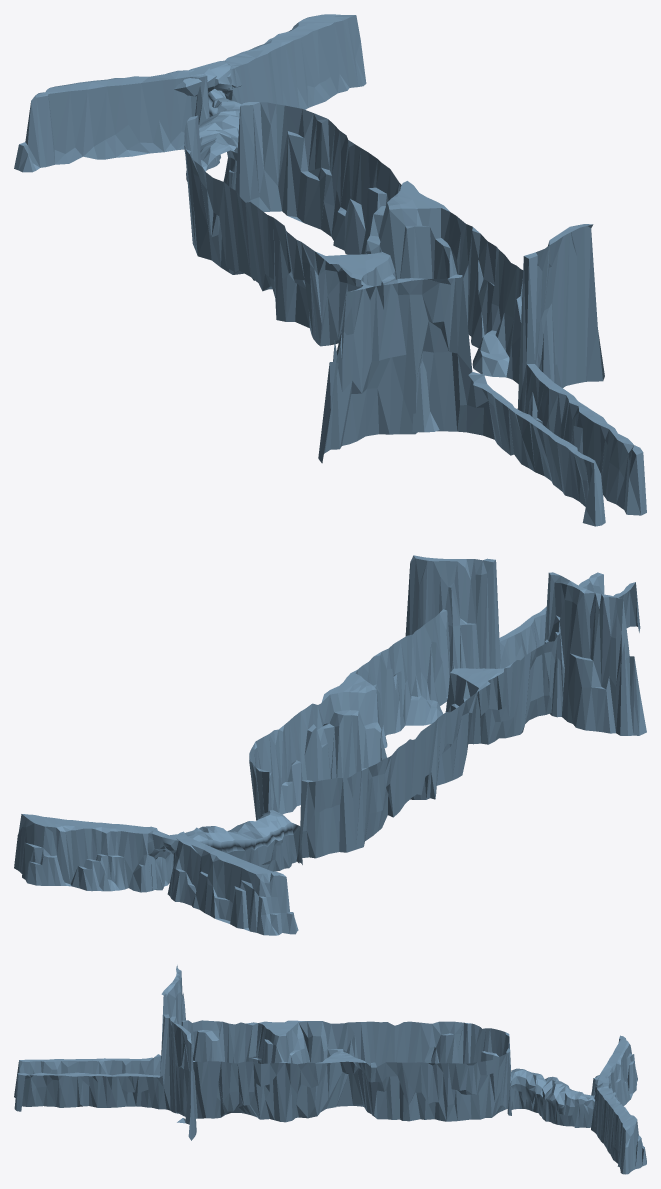
The model's file is stage.fbx.
The picture shows the model from 3 angles, top to bottom: view 1: azimuth 30°, elevation 25°; view 2: azimuth 150°, elevation 25°; view 3: azimuth 270°, elevation 25°; orthographic projection. The views are drawn at different scales.
Visible parts, largest first — view 1: group19_MainStage; view 2: group19_MainStage; view 3: group19_MainStage.
Boxes of the visible parts, x1,y1,x2,y2 form: group19_MainStage: (14,14,646,526); group19_MainStage: (14,555,646,935); group19_MainStage: (14,965,646,1174).
Bounding box in the file's own units: 56041 × 20894 × 122087.
